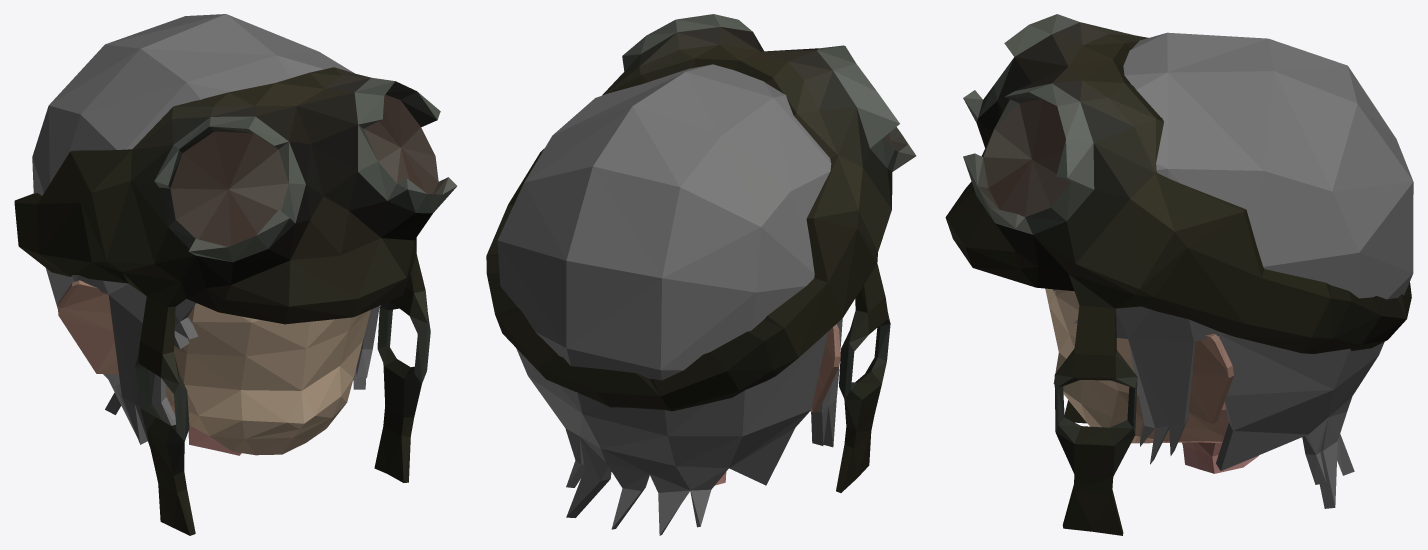
The model's file is helm_lightskin_standard_gray_goggles.fbx.
3 renders of one model, left to right at view 1: azimuth 30°, elevation 25°; view 2: azimuth 150°, elevation 25°; view 3: azimuth 270°, elevation 25°, orthographic. The views are drawn at different scales.
Parts seen in each view (by area): view 1: helm_lightskin_standard_gray_goggles; view 2: helm_lightskin_standard_gray_goggles; view 3: helm_lightskin_standard_gray_goggles.
Part boxes in pixels (<box>): helm_lightskin_standard_gray_goggles: <box>14,14,456,535</box>; helm_lightskin_standard_gray_goggles: <box>486,14,916,535</box>; helm_lightskin_standard_gray_goggles: <box>945,14,1413,535</box>.
Size of the model in its own units: 1.19 by 1.39 by 1.39.
